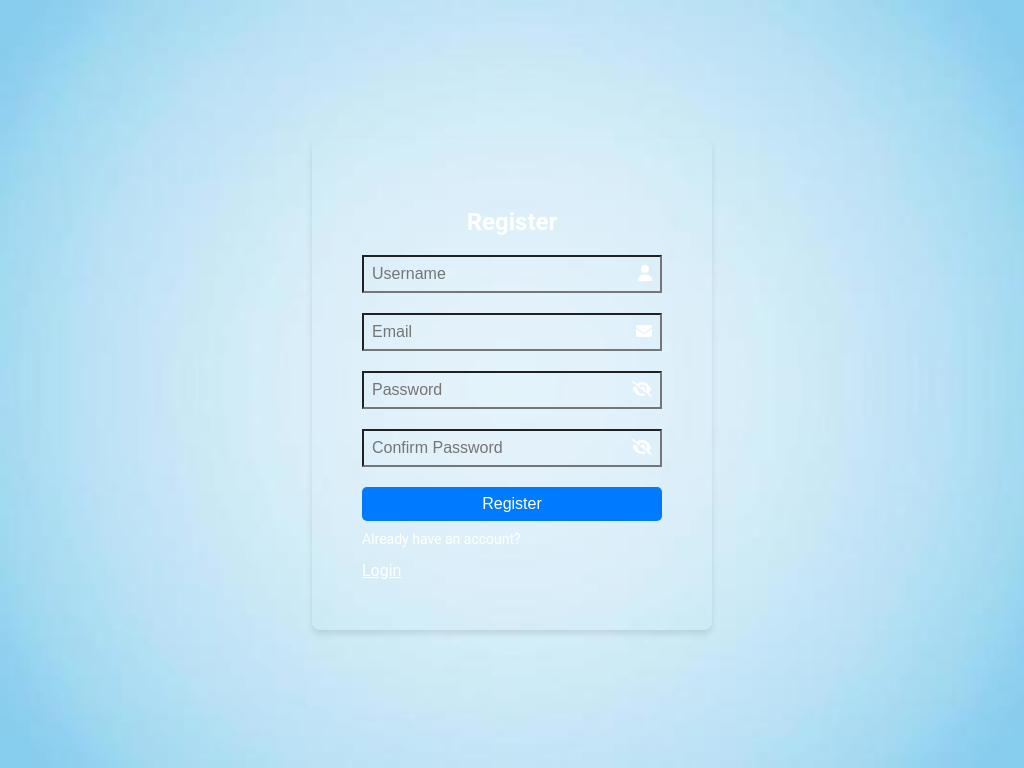
Register Component › should display error message for invalid email format
Type "invalid-email" into the field with placeholder "Email" at (512, 332), box [362, 313, 662, 351]
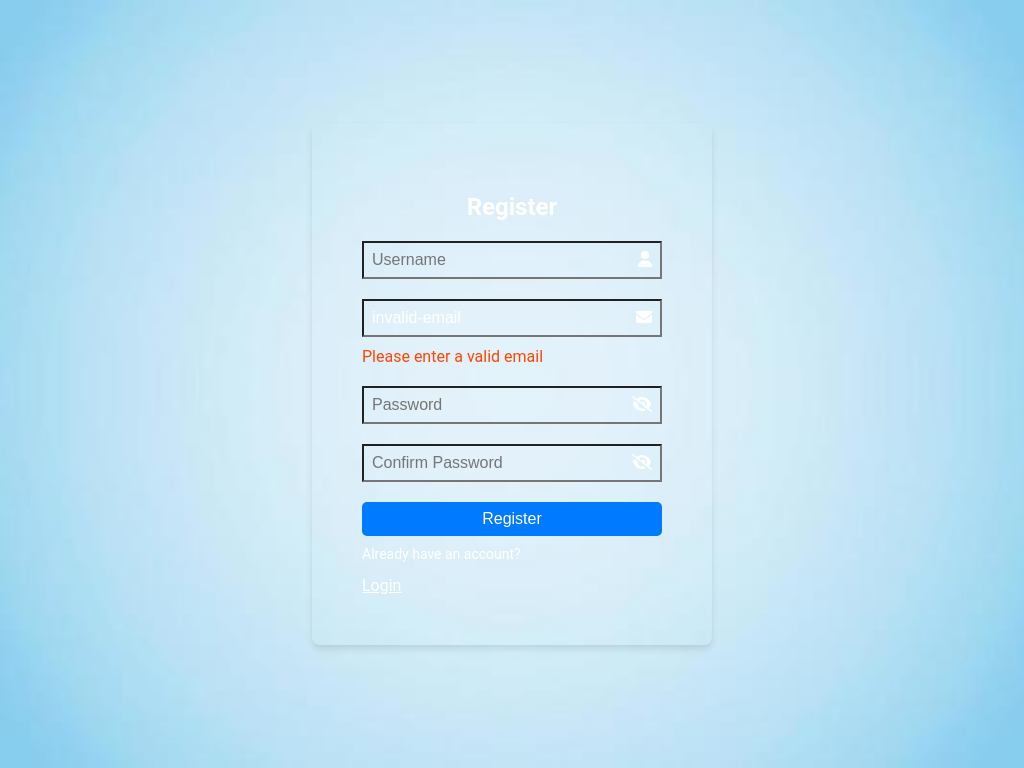
Expected: the text "Please enter a valid email" is shown, [362, 347, 543, 366]
